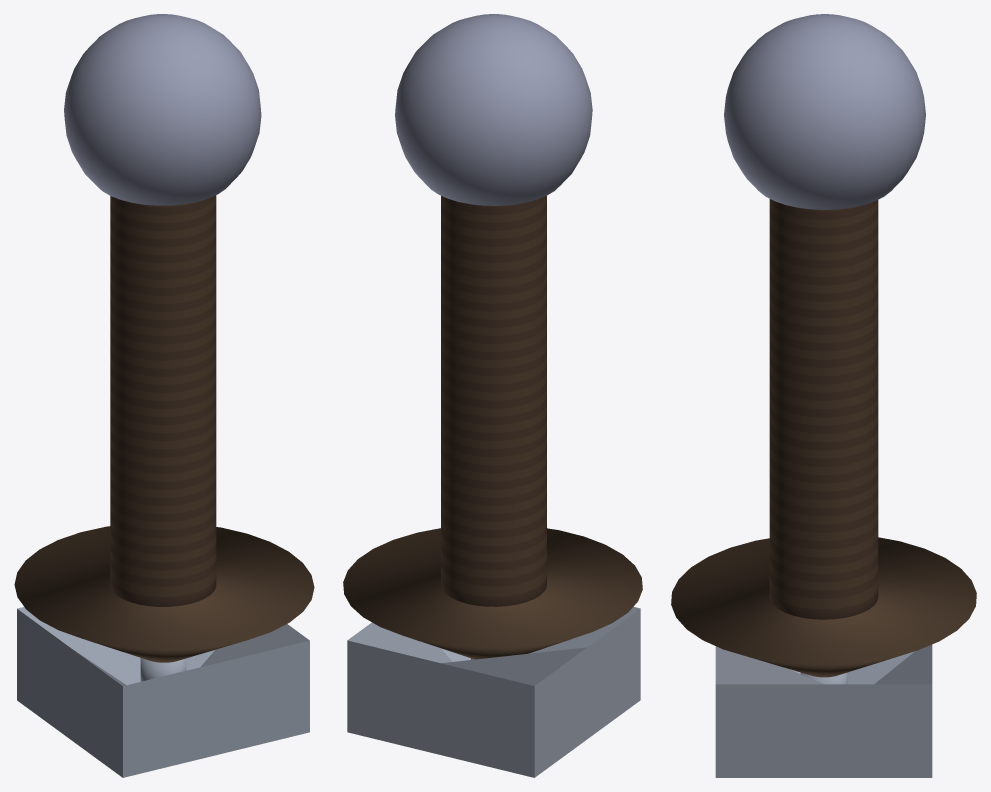
The model's file is coiltower2.fbx.
3 views of the same model, side by side, from view 1: azimuth 30°, elevation 25°; view 2: azimuth 150°, elevation 25°; view 3: azimuth 270°, elevation 25° (orthographic). The views are drawn at different scales.
Visible parts, largest first — view 1: Cylinder, Cube.001, Sphere, Cone, Cylinder.001; view 2: Cylinder, Cube.001, Sphere, Cone; view 3: Cylinder, Sphere, Cube.001, Cone.
Boxes of the visible parts, x1=… form: Cylinder: x1=110, y1=195, x2=216, y2=606; Cube.001: x1=17, y1=607, x2=309, y2=777; Sphere: x1=64, y1=14, x2=261, y2=205; Cone: x1=14, y1=526, x2=314, y2=662; Cylinder.001: x1=140, y1=658, x2=186, y2=681; Cylinder: x1=441, y1=196, x2=546, y2=606; Cube.001: x1=347, y1=606, x2=640, y2=777; Sphere: x1=395, y1=14, x2=592, y2=205; Cone: x1=343, y1=528, x2=642, y2=659; Cylinder: x1=769, y1=199, x2=878, y2=619; Sphere: x1=724, y1=14, x2=925, y2=209; Cube.001: x1=715, y1=644, x2=932, y2=777; Cone: x1=671, y1=537, x2=976, y2=677.
Bounding box in the file's own units: 59.16 × 151 × 59.16.
